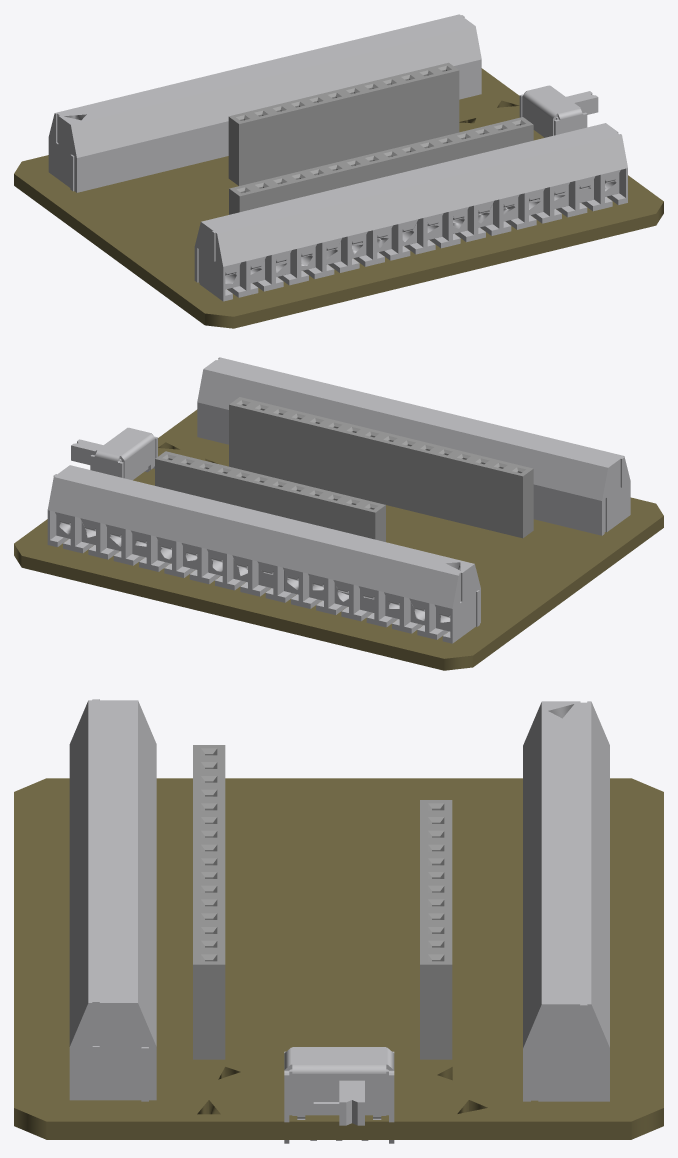
File: ada-2926.glb
The picture shows the model from 3 angles, top to bottom: view 1: azimuth 30°, elevation 25°; view 2: azimuth 150°, elevation 25°; view 3: azimuth 270°, elevation 25°; orthographic projection. The views are drawn at different scales.
Visible parts, largest first — view 1: 0.5833333333333334_0.5833333333333334_0.5833333333333334_0.8, 0.16666666666666666_0.16666666666666666_0.08333333333333333_, 0.3333333333333333_0.3333333333333333_0.3333333333333333_0; view 2: 0.5833333333333334_0.5833333333333334_0.5833333333333334_0.8, 0.16666666666666666_0.16666666666666666_0.08333333333333333_, 0.3333333333333333_0.3333333333333333_0.3333333333333333_0; view 3: 0.16666666666666666_0.16666666666666666_0.08333333333333333_, 0.5833333333333334_0.5833333333333334_0.5833333333333334_0.8, 0.3333333333333333_0.3333333333333333_0.3333333333333333_0.
Boxes of the visible parts, x1=… form: 0.5833333333333334_0.5833333333333334_0.5833333333333334_0.8: x1=48, y1=14, x2=627, y2=301; 0.16666666666666666_0.16666666666666666_0.08333333333333333_: x1=14, y1=68, x2=663, y2=328; 0.3333333333333333_0.3333333333333333_0.3333333333333333_0: x1=228, y1=62, x2=533, y2=214; 0.5833333333333334_0.5833333333333334_0.5833333333333334_0.8: x1=47, y1=357, x2=630, y2=643; 0.16666666666666666_0.16666666666666666_0.08333333333333333_: x1=14, y1=409, x2=663, y2=670; 0.3333333333333333_0.3333333333333333_0.3333333333333333_0: x1=155, y1=397, x2=533, y2=541; 0.16666666666666666_0.16666666666666666_0.08333333333333333_: x1=14, y1=778, x2=663, y2=1139; 0.5833333333333334_0.5833333333333334_0.5833333333333334_0.8: x1=69, y1=699, x2=609, y2=1143; 0.3333333333333333_0.3333333333333333_0.3333333333333333_0: x1=193, y1=745, x2=452, y2=1059.
Bounding box in the file's own units: 6.76 × 1.19 × 5.08.
